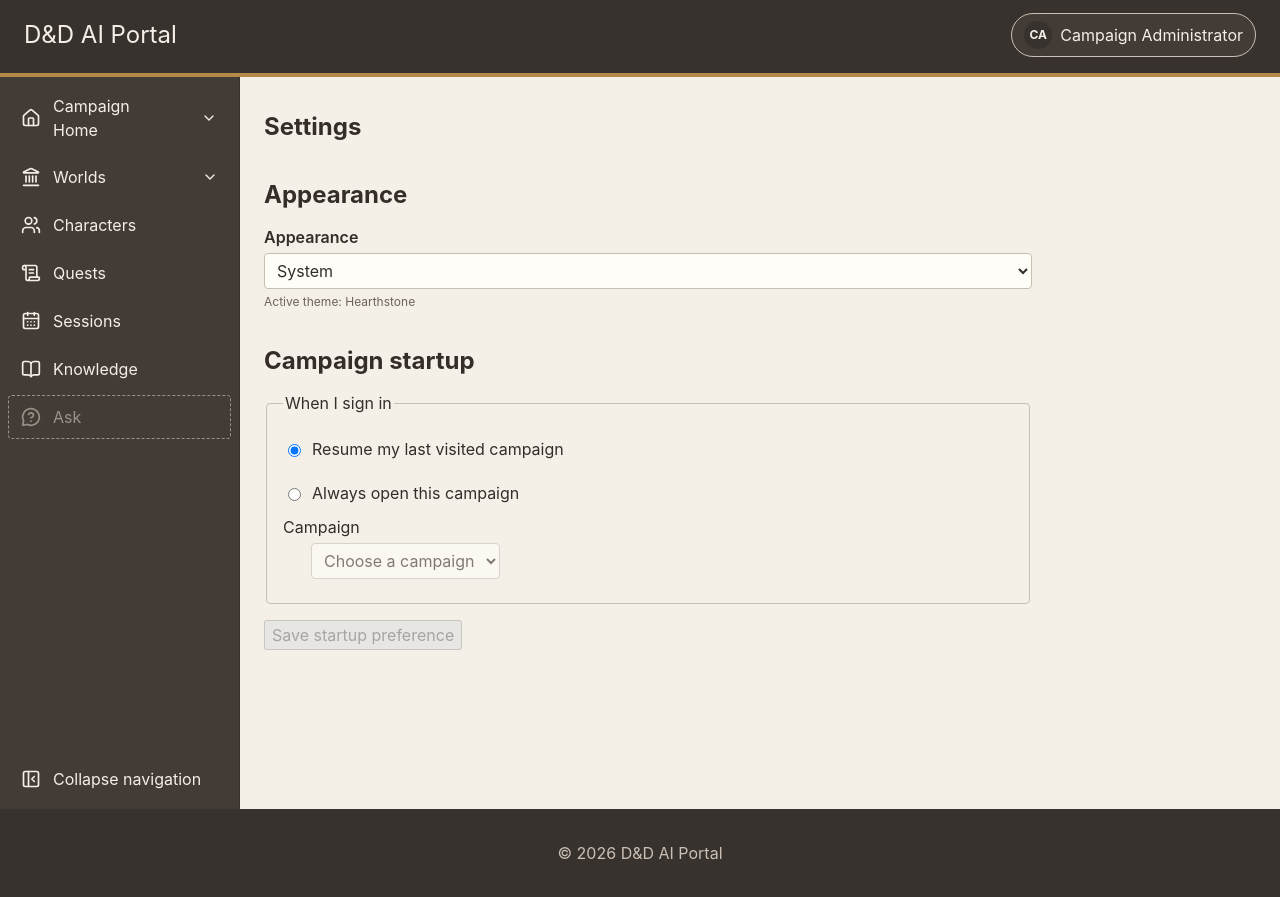
Test case: saved startup preference reaches the shared session › does not refresh or change shared state when the save is rejected
The image size is (1280, 897).
Expected: the heading "Settings" is shown, [264,112,361,141]
Click the radio button labelled "Always open this campaign" at (294, 494), box [288,488,301,501]
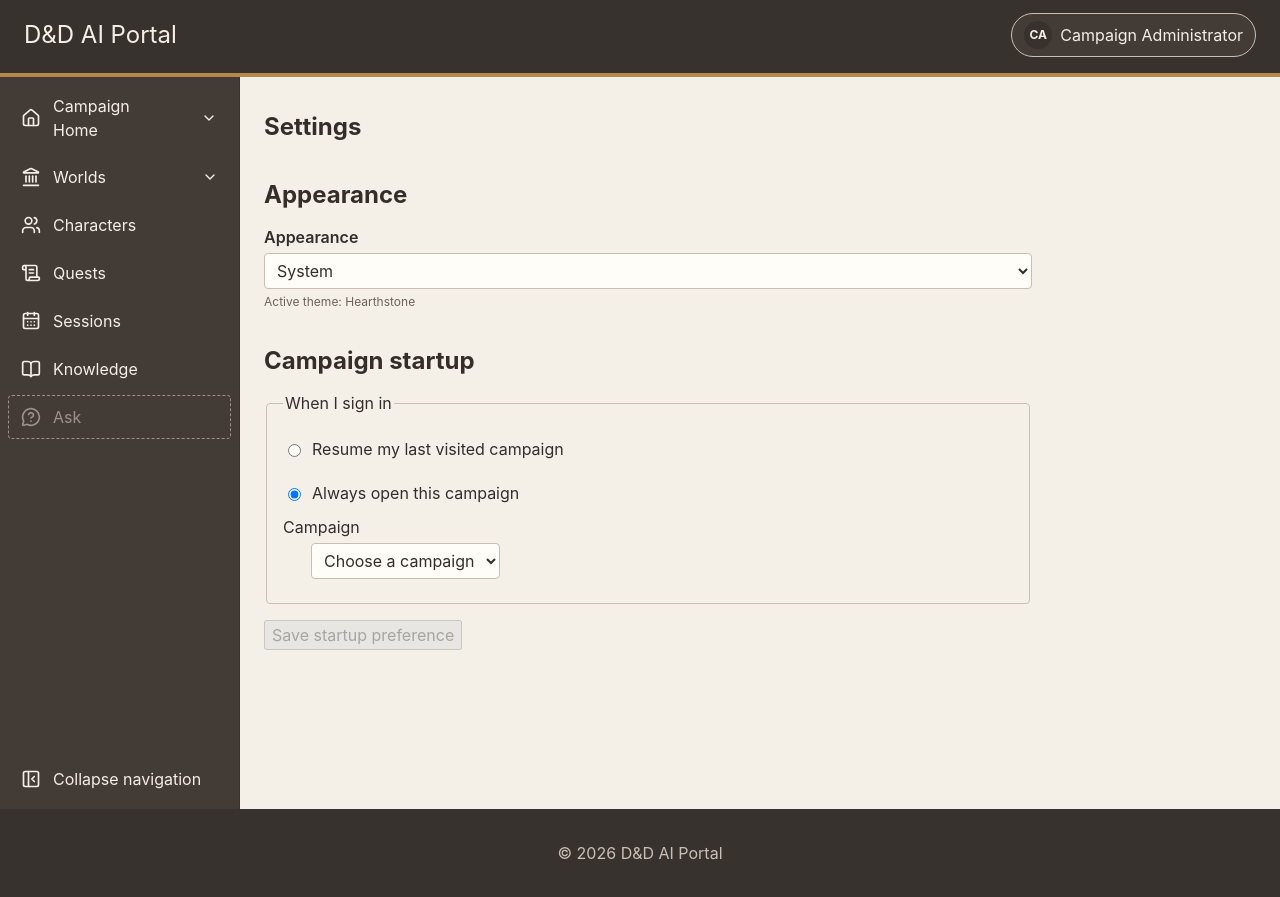
Select "Beta" in the dropdown labelled "Campaign" at (406, 561), box [311,543,500,579]
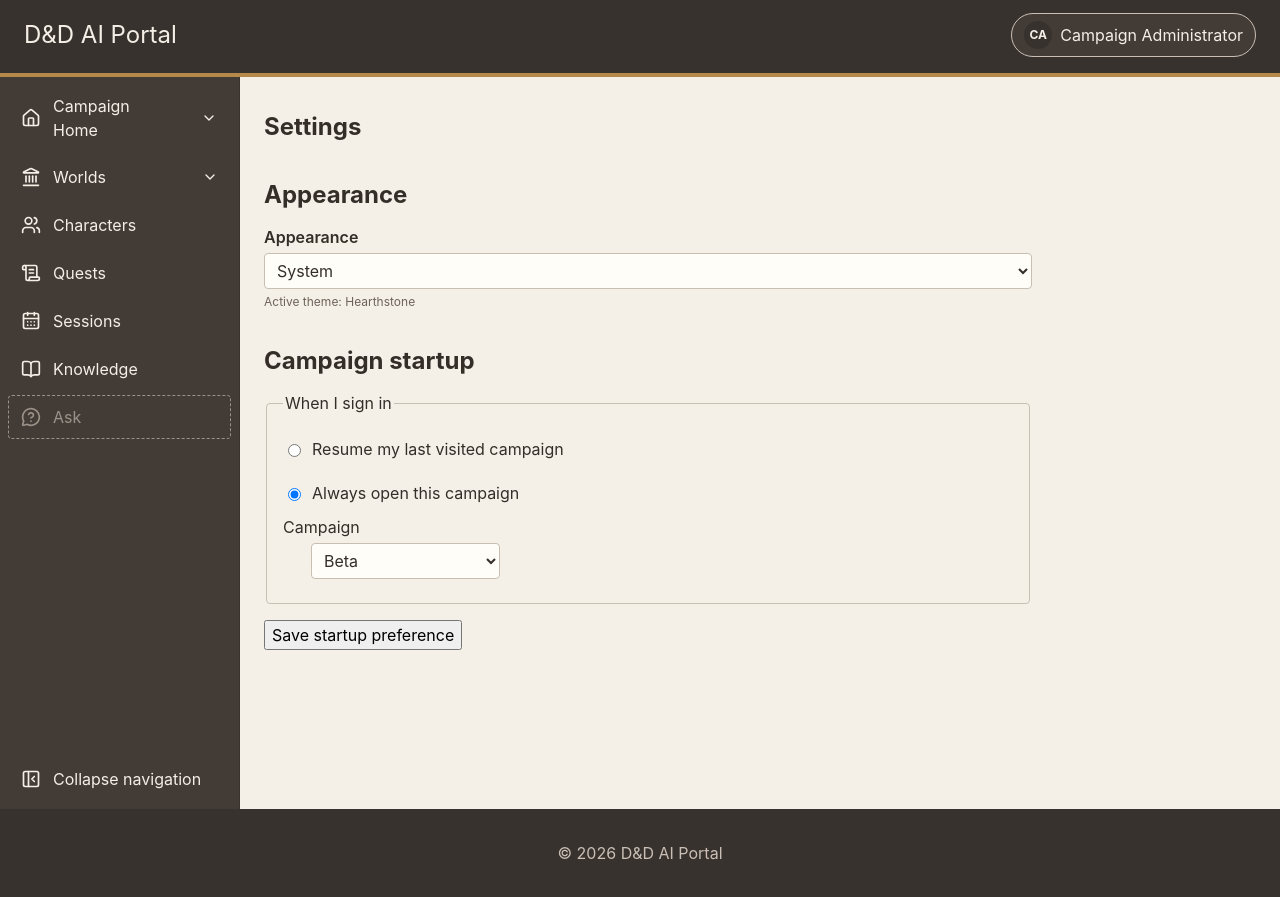
Click the button "Save startup preference" at (363, 635), box [264,620,462,650]
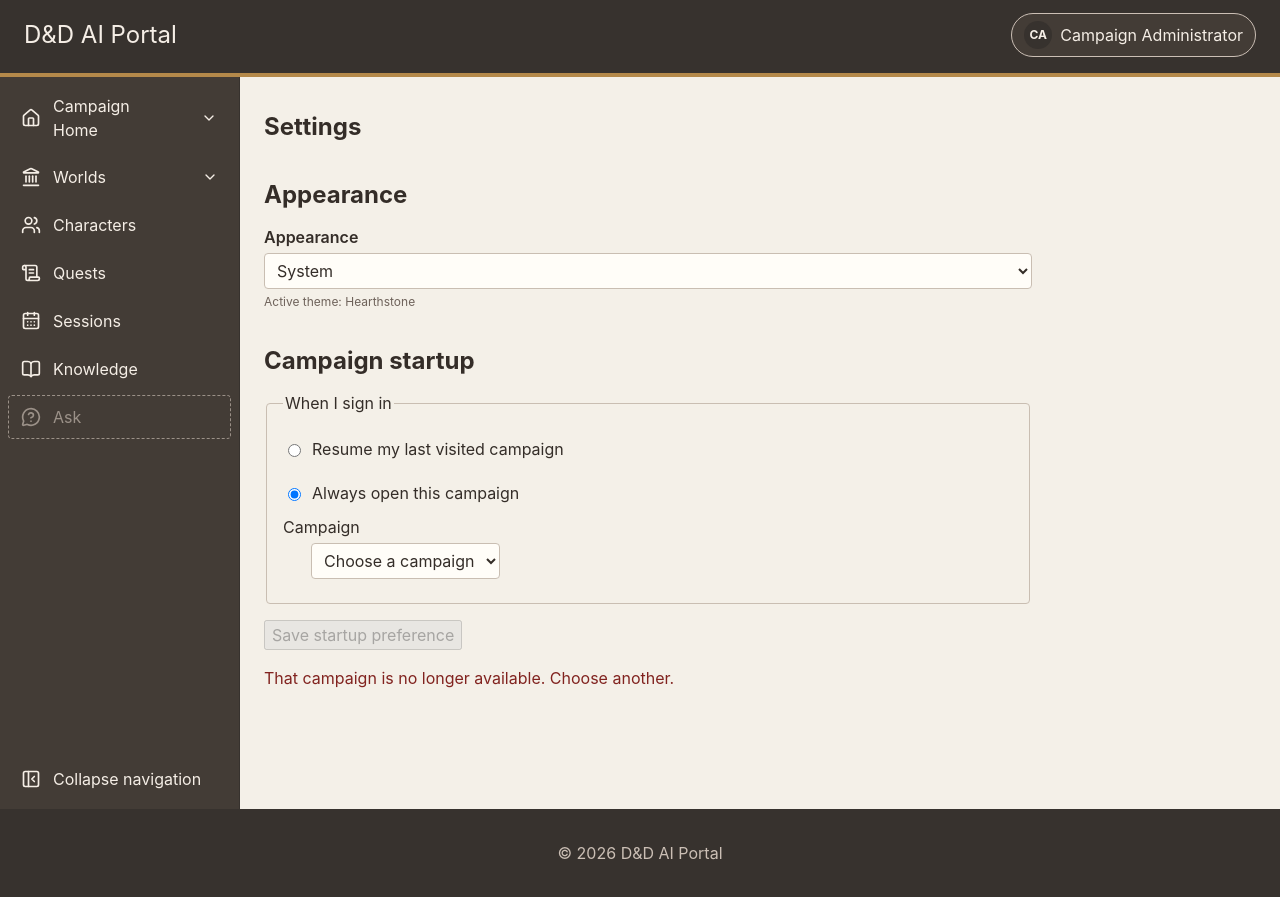
Expected: the message shows "no longer available", [264,668,674,688]
Click the link "D&D AI Portal" at (100, 35), box [24,17,177,53]
(page scrolled)
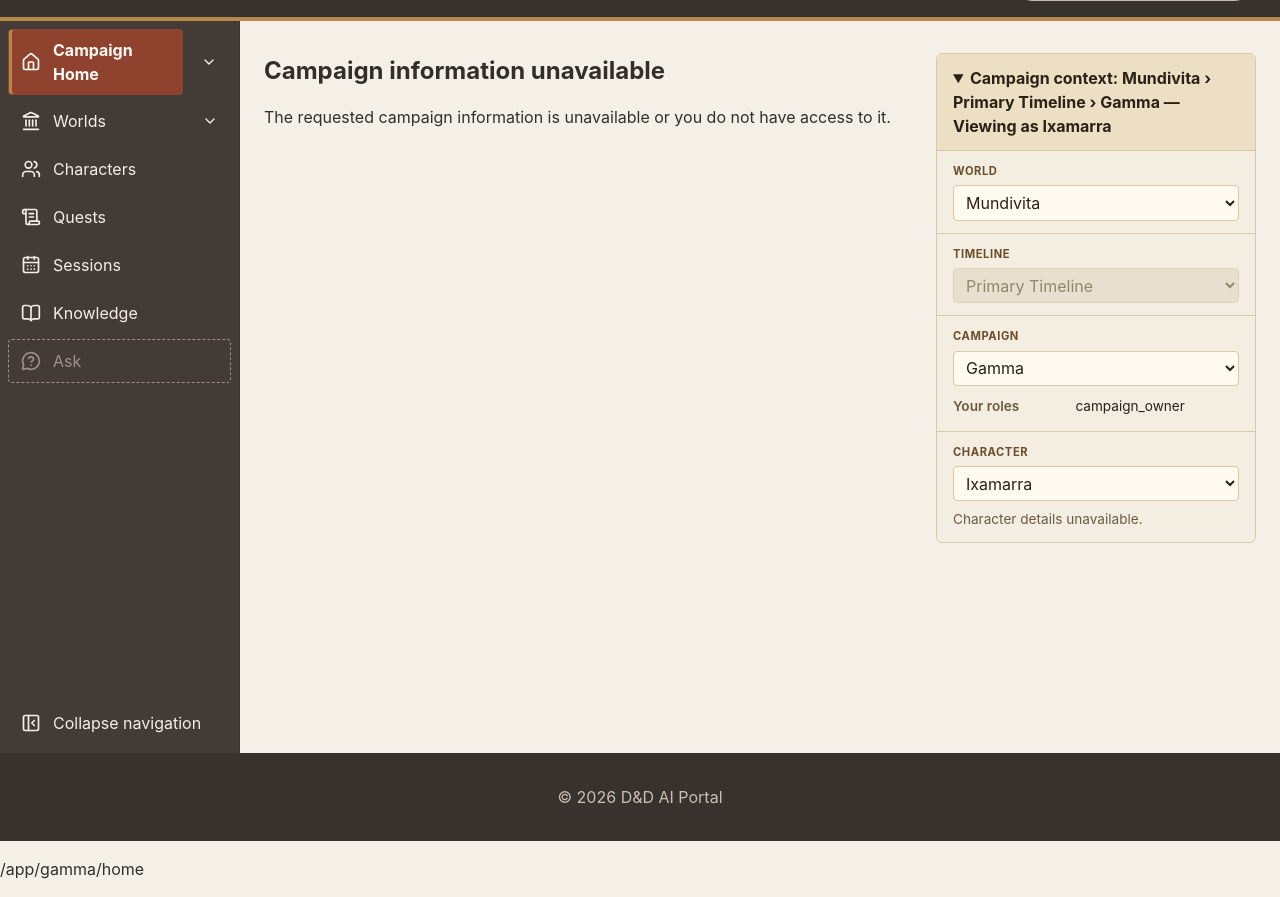
Expected: the text with test id "location" reads "/app/gamma/home", [0,859,144,879]
